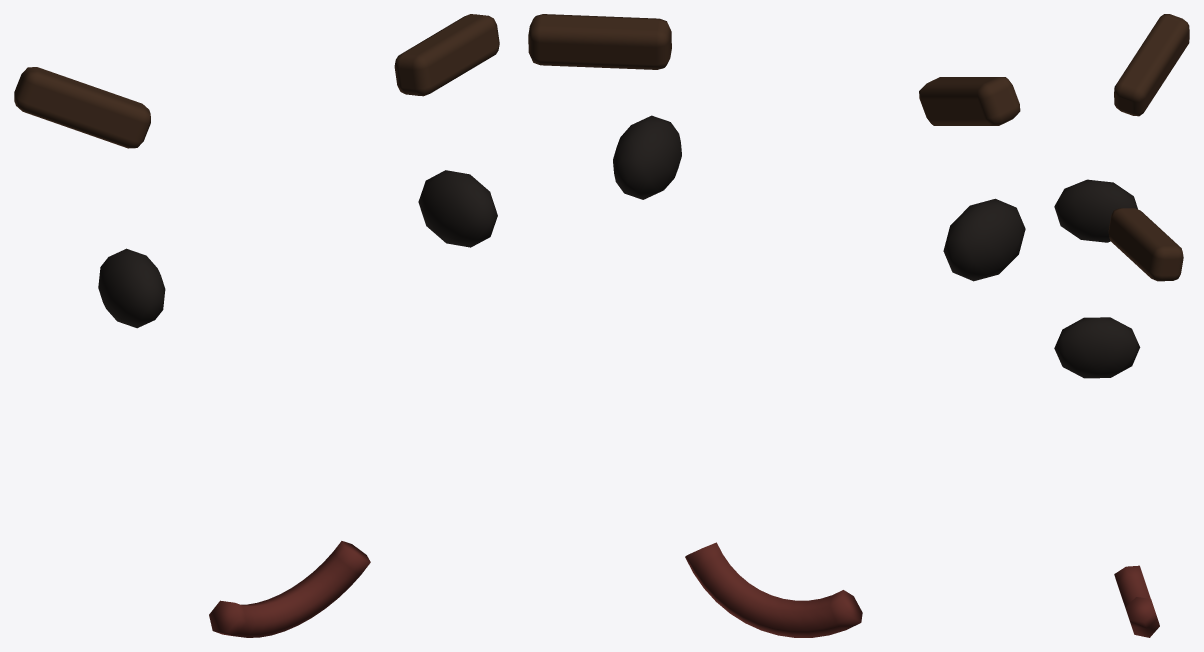
File: 03-tiny-trouble.glb
3 views of the same model, side by side, from view 1: azimuth 30°, elevation 25°; view 2: azimuth 150°, elevation 25°; view 3: azimuth 270°, elevation 25° (orthographic). The views are drawn at different scales.
Visible parts, largest first — view 1: Face03_Brow-1, Face03_Mouth, Face03_Brow1, Face03_Eye1, Face03_Eye-1; view 2: Face03_Brow1, Face03_Mouth, Face03_Eye-1, Face03_Brow-1, Face03_Eye1; view 3: Face03_Eye1, Face03_Brow-1, Face03_Brow1, Face03_Eye-1, Face03_Mouth.
Boxes of the visible parts, x1,y1,x2,y2 form: Face03_Brow-1: (14,67,150,148); Face03_Mouth: (209,541,370,637); Face03_Brow1: (394,14,499,96); Face03_Eye1: (418,170,497,247); Face03_Eye-1: (98,248,165,328); Face03_Brow1: (528,14,671,69); Face03_Mouth: (685,542,862,637); Face03_Eye-1: (943,198,1025,281); Face03_Brow-1: (919,77,1020,125); Face03_Eye1: (613,115,681,199); Face03_Eye1: (1054,317,1140,378); Face03_Brow-1: (1114,14,1189,116); Face03_Brow1: (1108,208,1183,281); Face03_Eye-1: (1054,179,1137,242); Face03_Mouth: (1114,565,1159,637).
Size of the model in its own units: 0.271 by 0.3288 by 0.0779.
